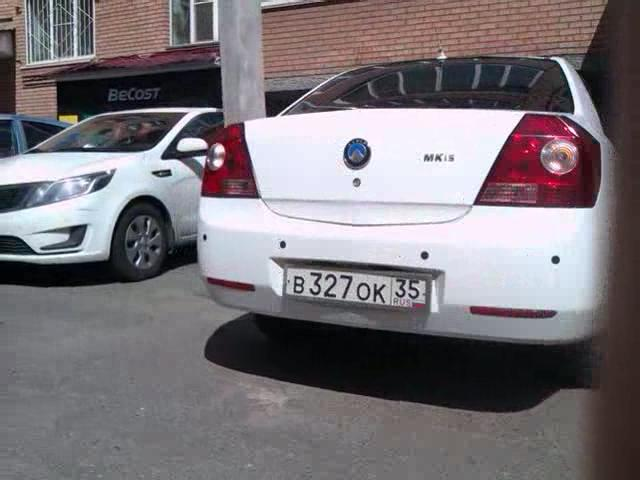car license plate: (280, 263, 434, 315)
